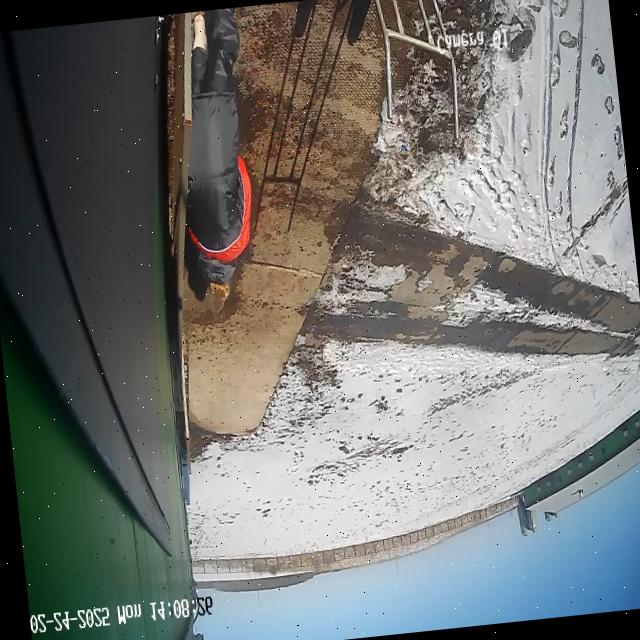Red uniform: (186, 8, 251, 300)
